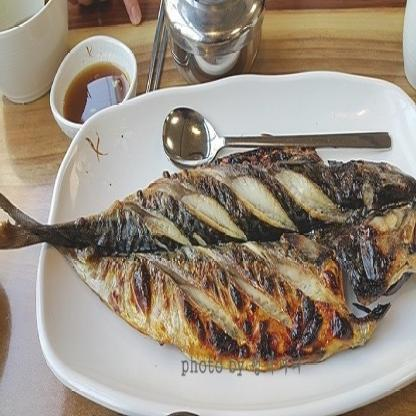Peixe: (0, 128, 416, 369)
